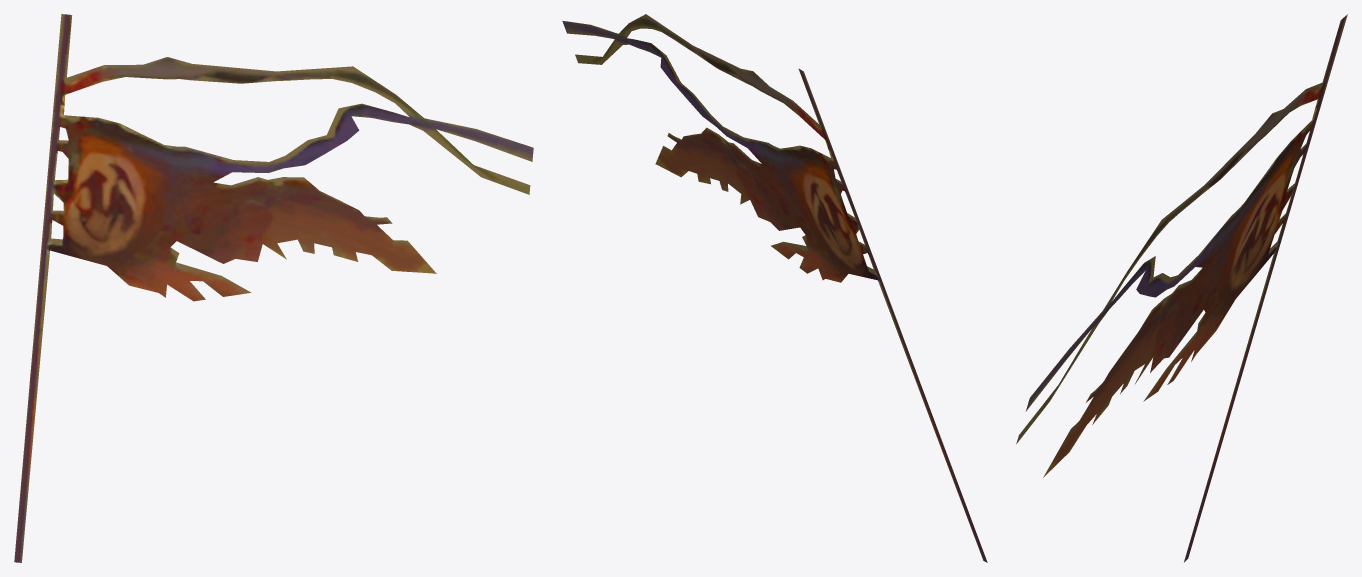
File: sences_changbanpo_qizi01.FBX
3 renders of one model, left to right at view 1: azimuth 30°, elevation 25°; view 2: azimuth 150°, elevation 25°; view 3: azimuth 270°, elevation 25°, orthographic. The views are drawn at different scales.
Visible parts, largest first — view 1: Plane91; view 2: Plane91; view 3: Plane91.
Part boxes in pixels (box(x1,y1,x2,y2)): Plane91: box(14, 14, 533, 562); Plane91: box(562, 14, 987, 562); Plane91: box(1016, 14, 1347, 562).
Size of the model in its own units: 4.32 by 2.11 by 4.31.
